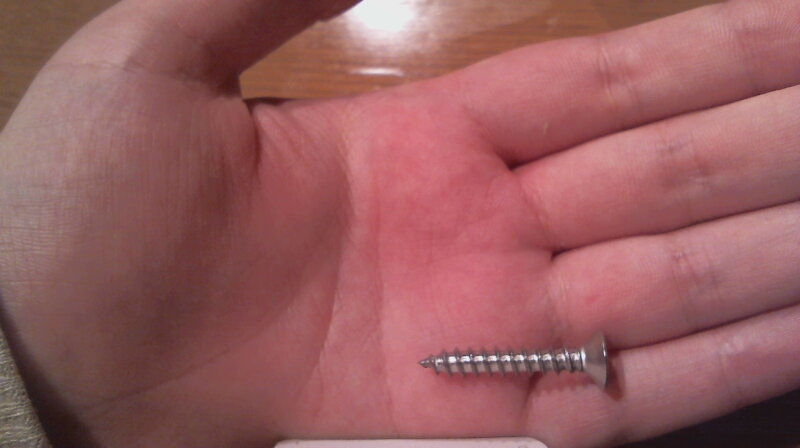S001: (411, 325, 615, 395)
